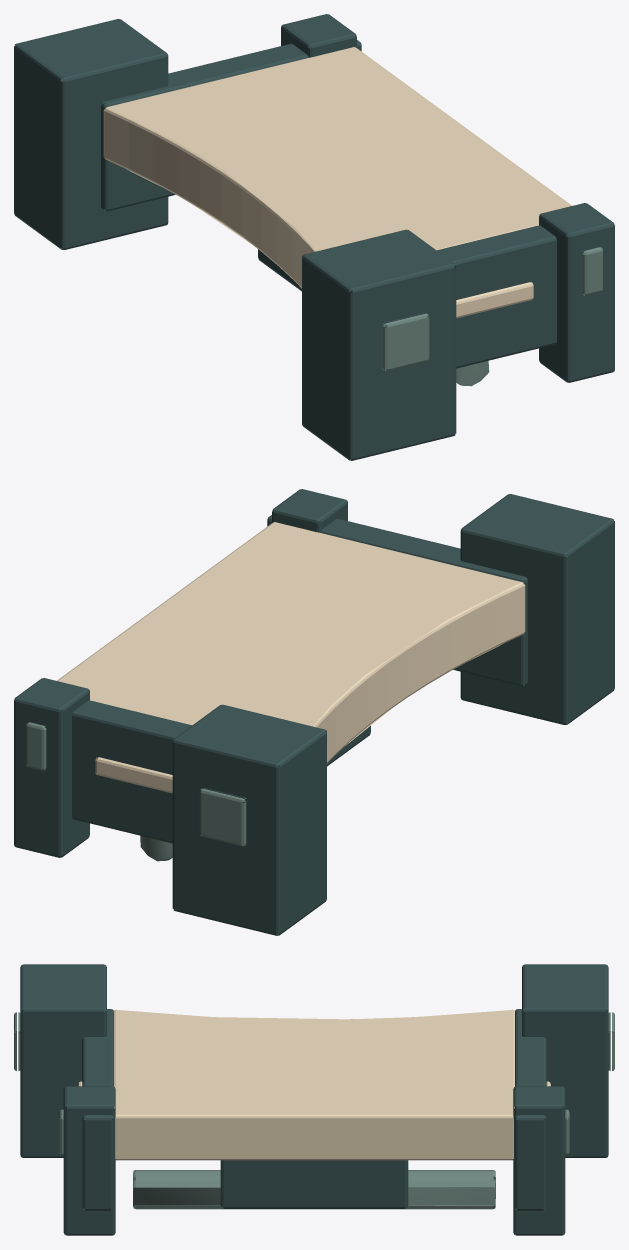
File: Pier_Connector.glb
3 renders of one model, top to bottom at view 1: azimuth 30°, elevation 25°; view 2: azimuth 150°, elevation 25°; view 3: azimuth 270°, elevation 25°, orthographic. The views are drawn at different scales.
Visible parts, largest first — view 1: Pier_Connector; view 2: Pier_Connector; view 3: Pier_Connector.
Part boxes in pixels (bbox=[...]): Pier_Connector: bbox=[14, 14, 614, 460]; Pier_Connector: bbox=[14, 489, 614, 935]; Pier_Connector: bbox=[14, 964, 614, 1235].
Bounding box in the file's own units: 2.07 × 1.27 × 4.17.
